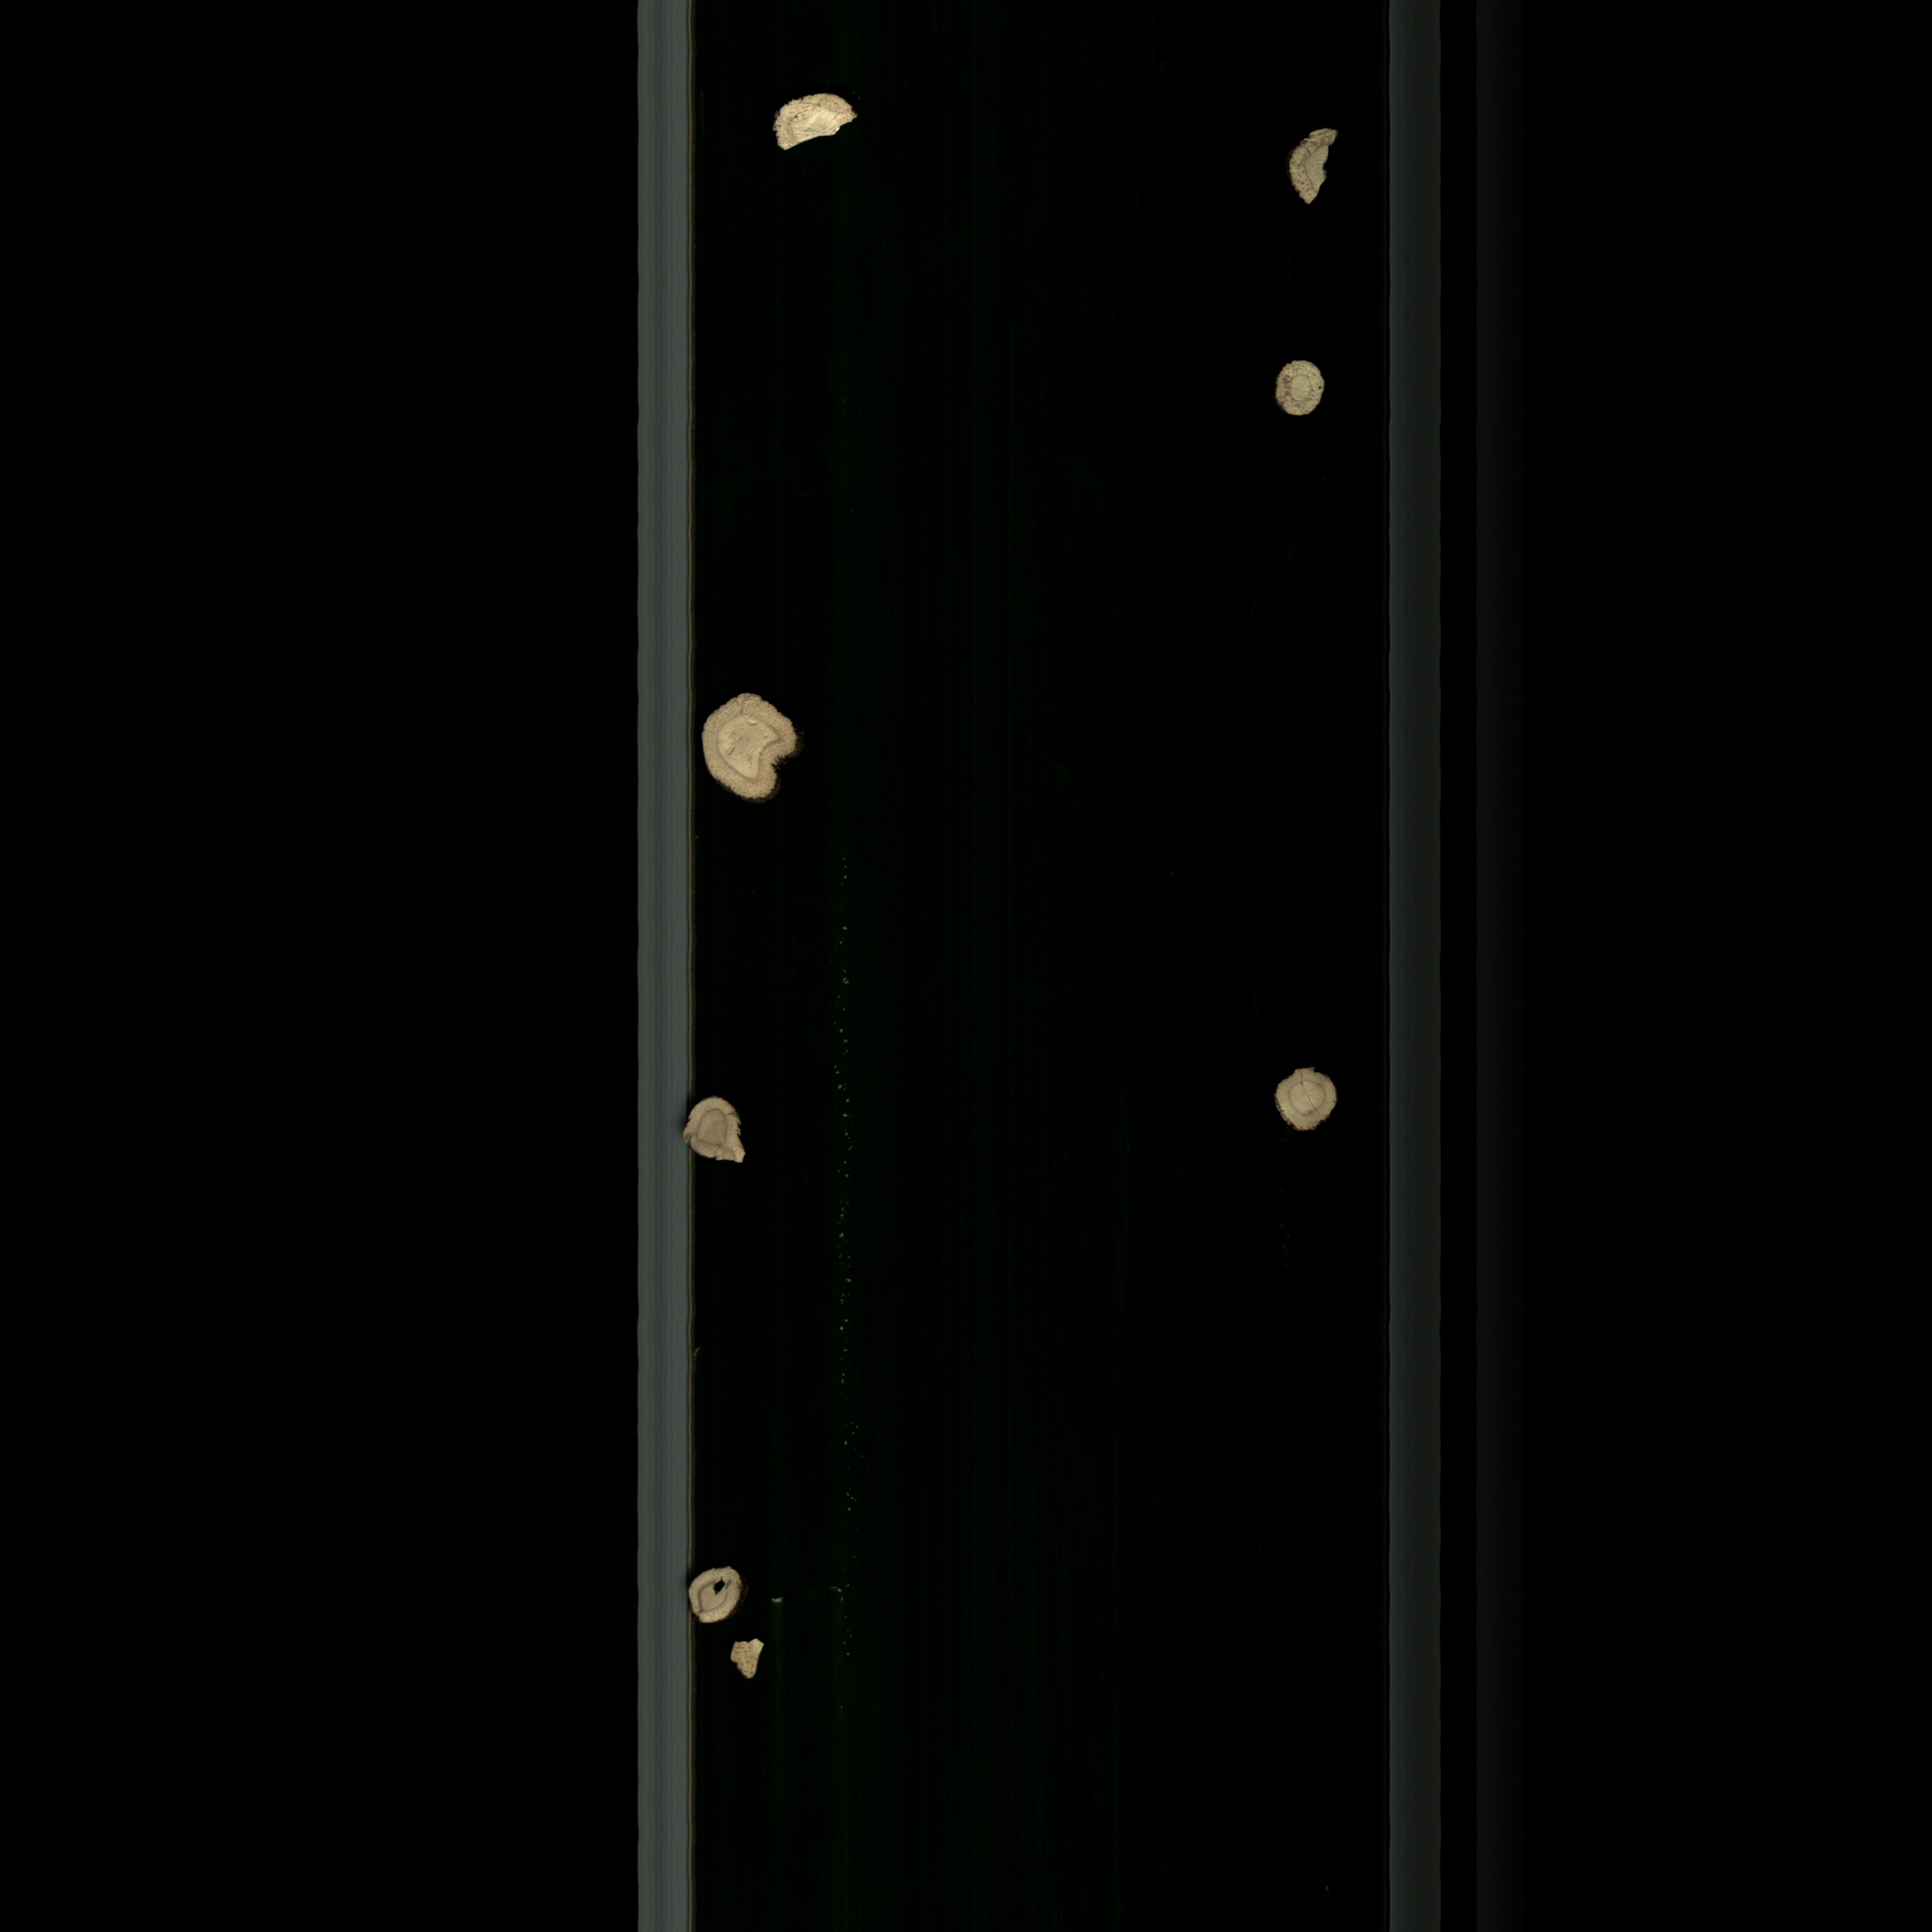debris: (764, 76, 890, 172), (1279, 115, 1352, 225)
distortion: (694, 672, 824, 826), (688, 1090, 777, 1180)
dreg: (724, 1621, 791, 1686)
hole: (685, 1550, 748, 1633)
